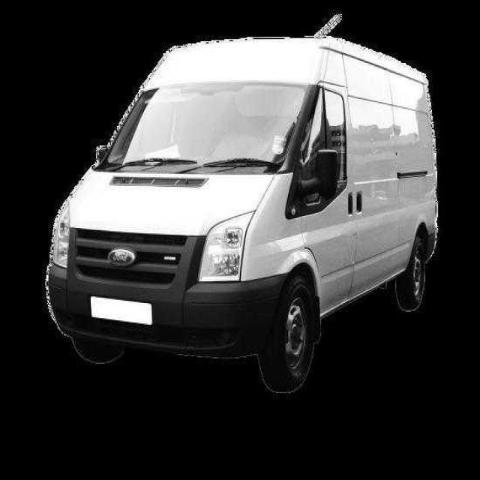van: (47, 34, 439, 394)
